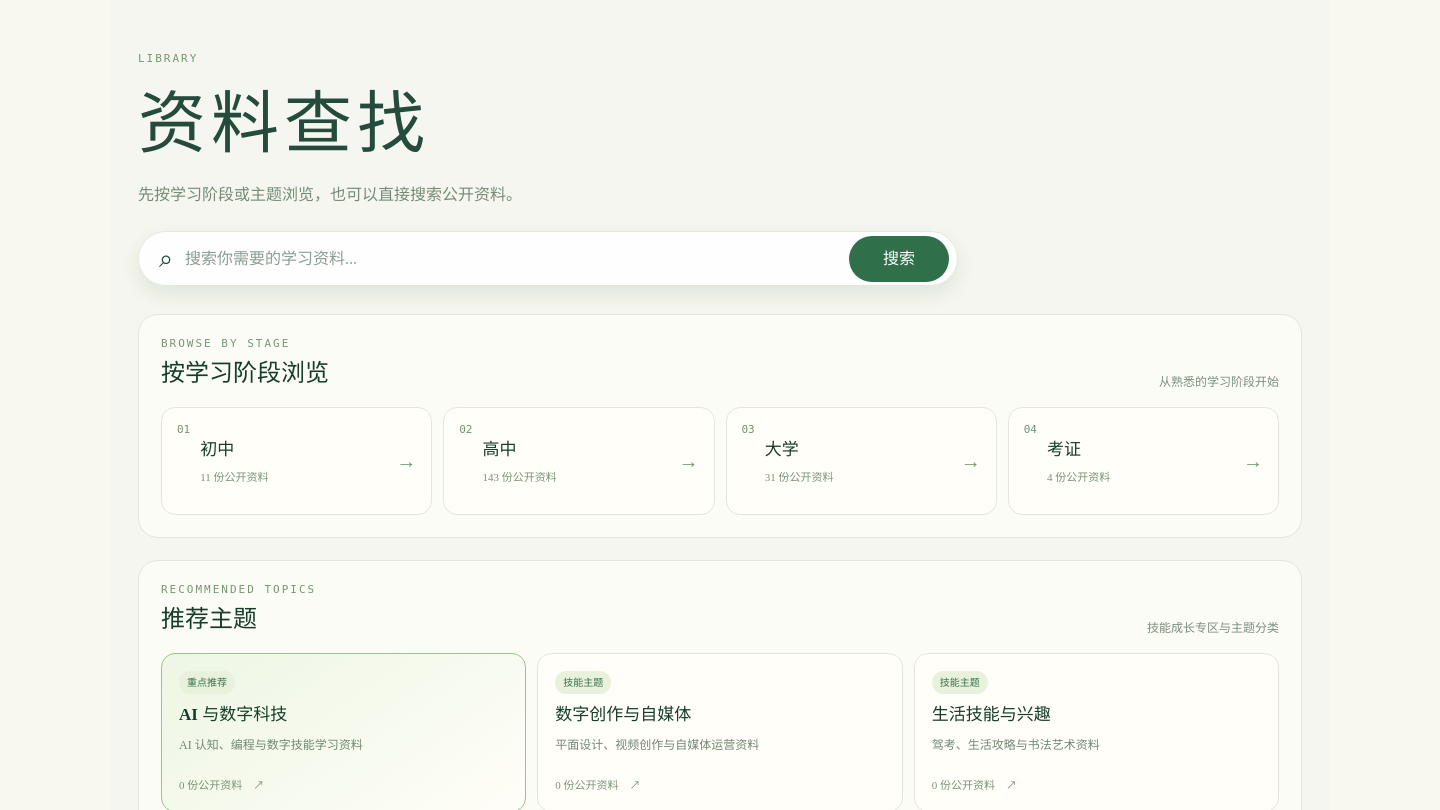
Test: resource result state and metadata › shows the committed search term and result count for matches and misses
The width and height of the screenshot is (1440, 810).
Type "高考真题" into the field named "关键词" at (511, 258), box top-left (185, 246), bottom-right (837, 270)
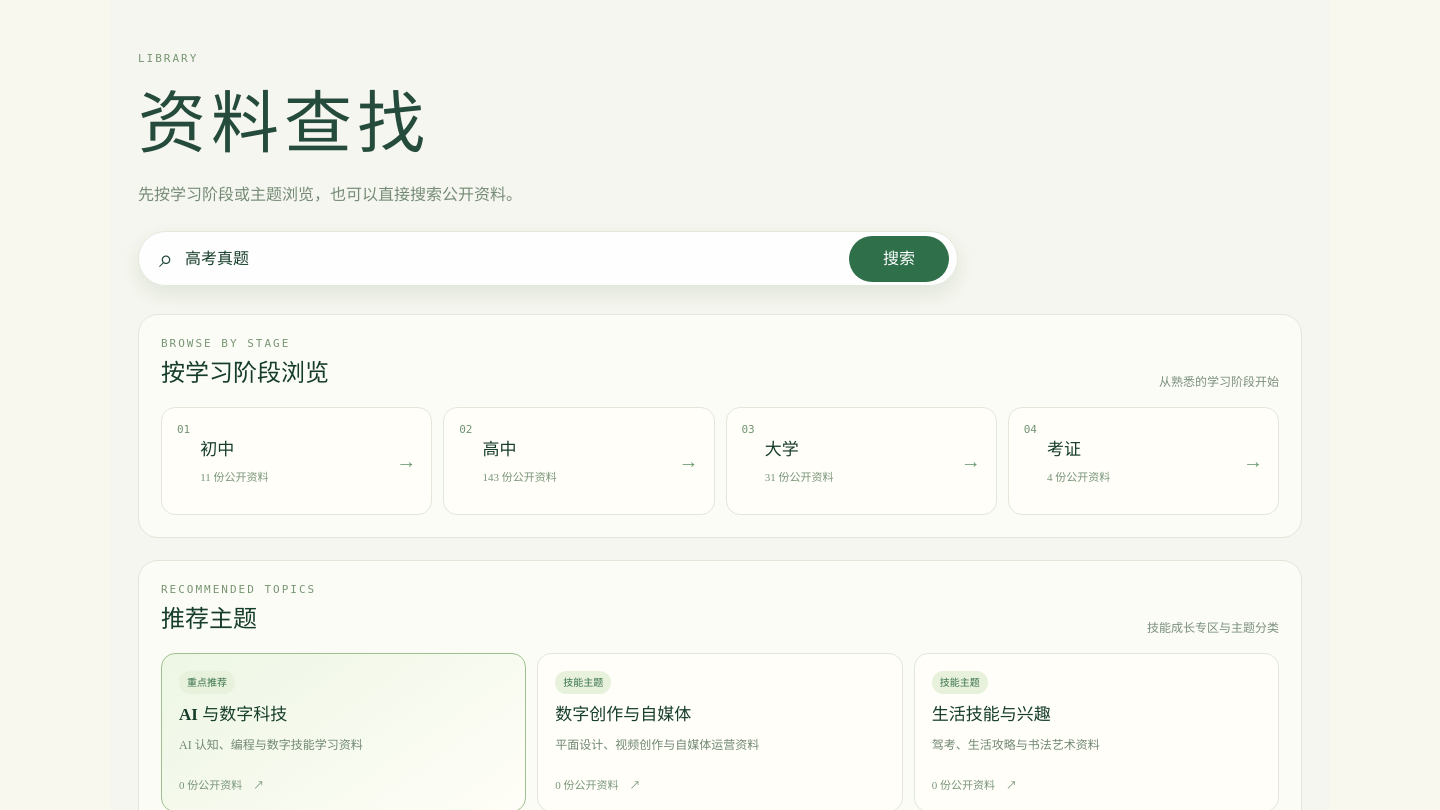
Click the button "搜索" at (899, 258), box top-left (849, 236), bottom-right (949, 282)
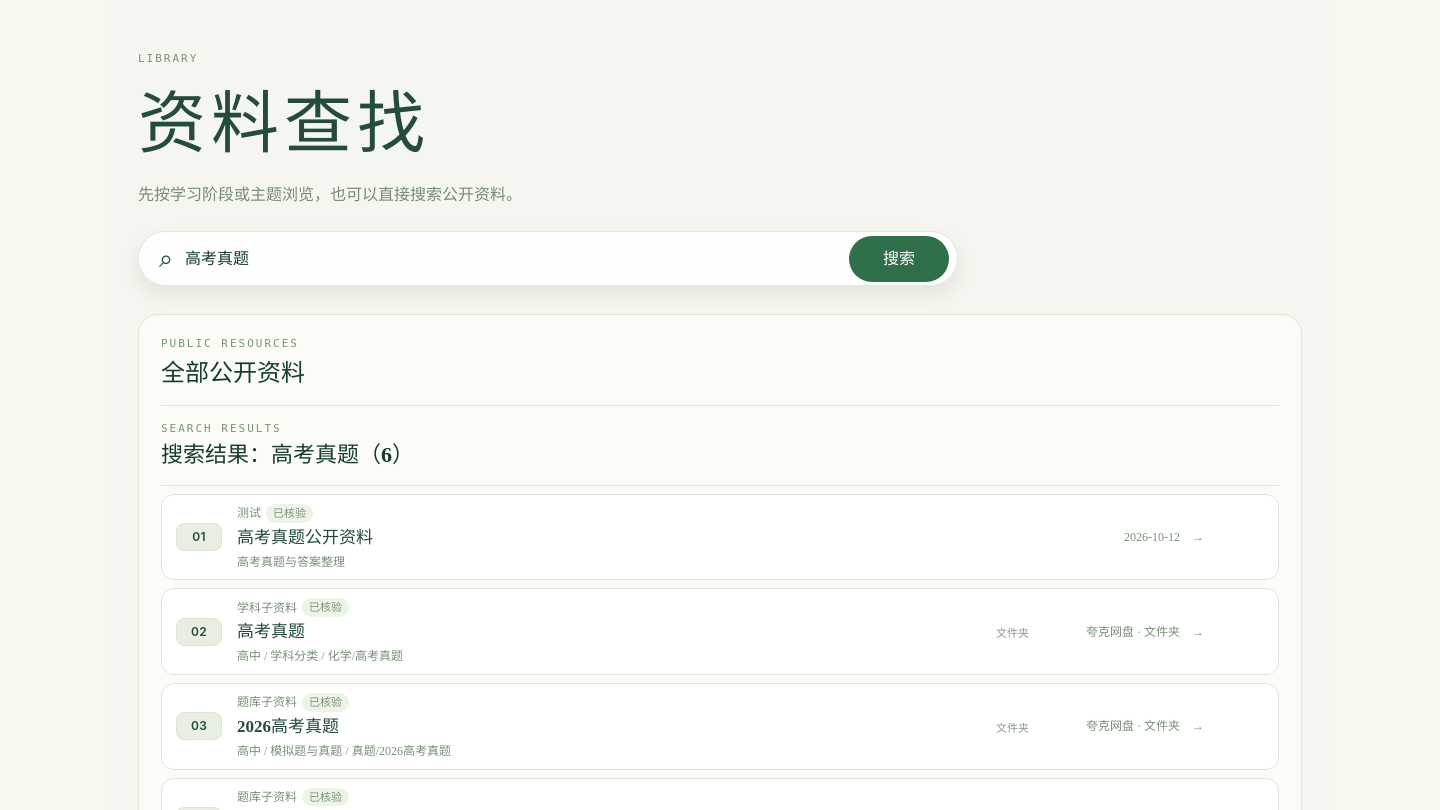
Now the heading "搜索结果：高考真题（6）" is shown, box top-left (161, 440), bottom-right (414, 471)
Replace the text in the field named "关键词" with "不存在的关键词" at (511, 258), box top-left (185, 246), bottom-right (837, 270)
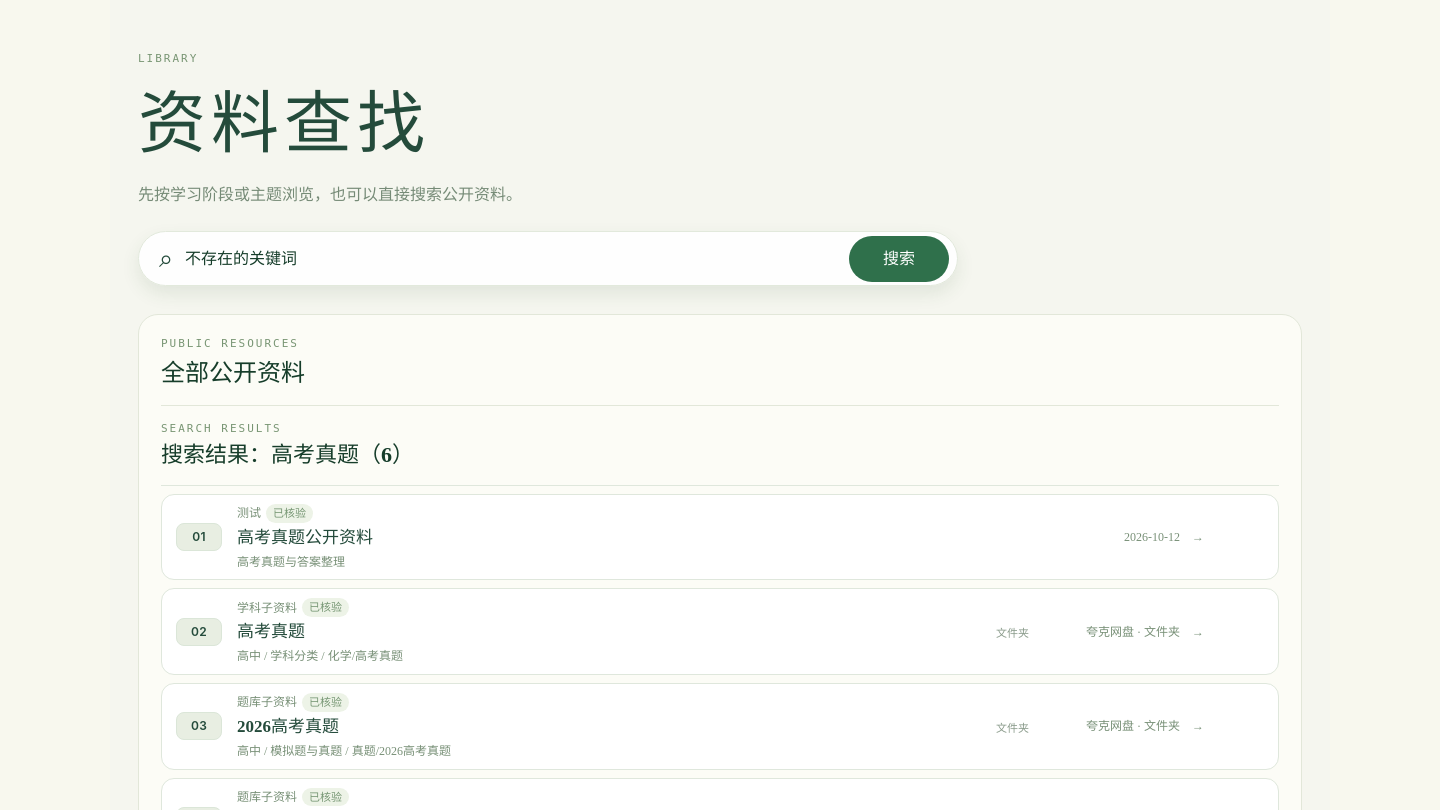
Click the button "搜索" at (899, 258), box top-left (849, 236), bottom-right (949, 282)
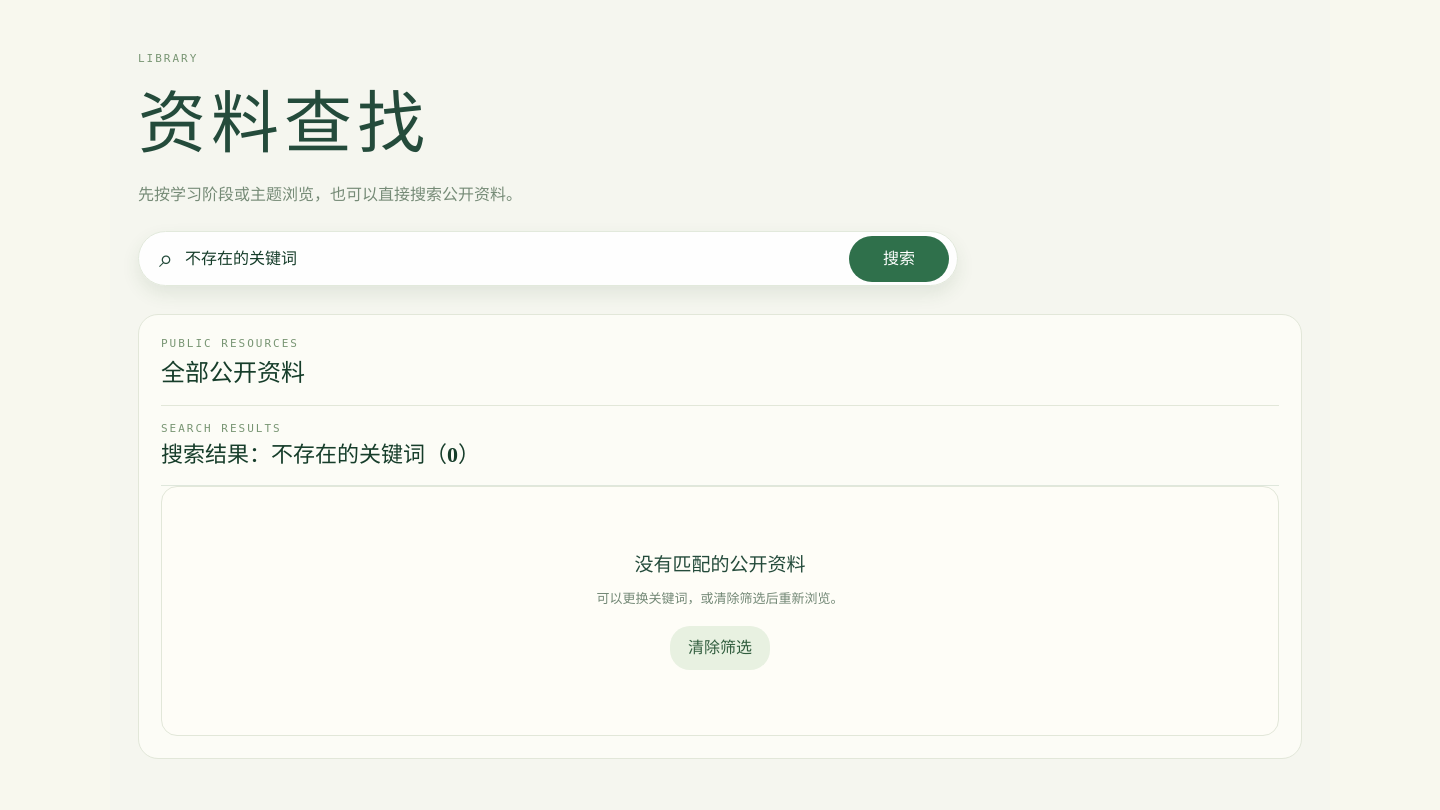
Now the heading "搜索结果：不存在的关键词（0）" is shown, box top-left (161, 440), bottom-right (480, 471)
